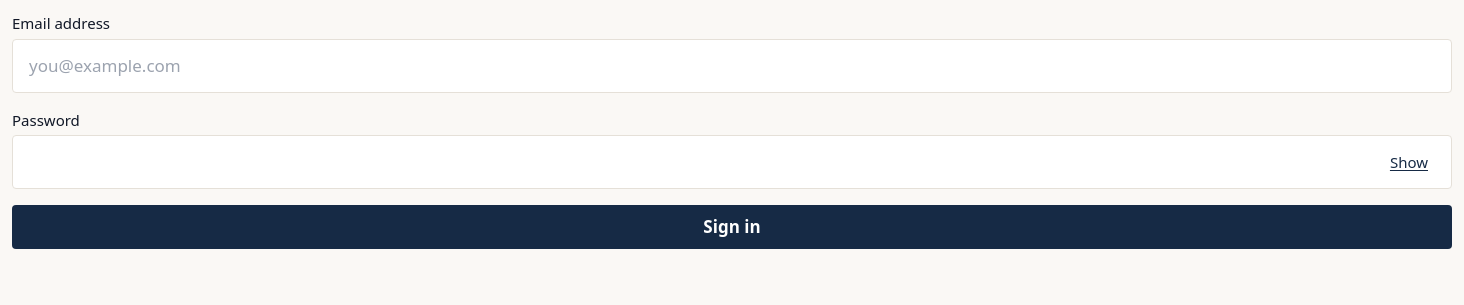
auth forms — provider failures (TM-04) › renders the generic sign-in failure and never the raw provider error
The width and height of the screenshot is (1464, 305).
Type "traveler@waynora.test" into the field labelled "Email address".
click(732, 66); type("traveler@waynora.test")  # box [12,38,1452,92]
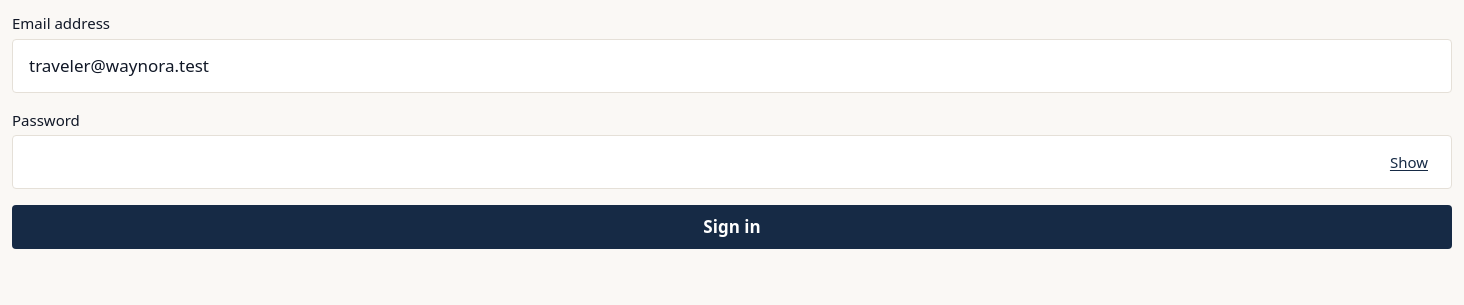
Type "password123" into the password field labelled "Password".
click(732, 162); type("password123")  # box [12,135,1452,189]
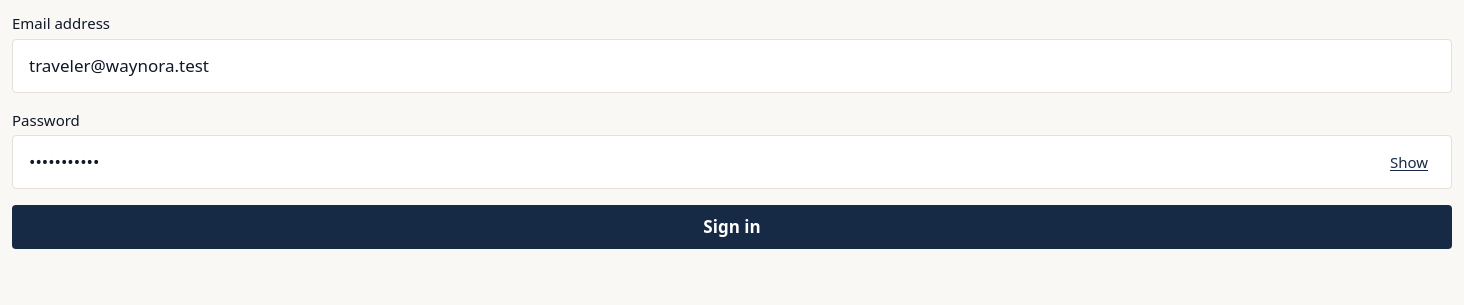
Click the button "Sign in".
click(732, 227)  # box [12,205,1452,249]
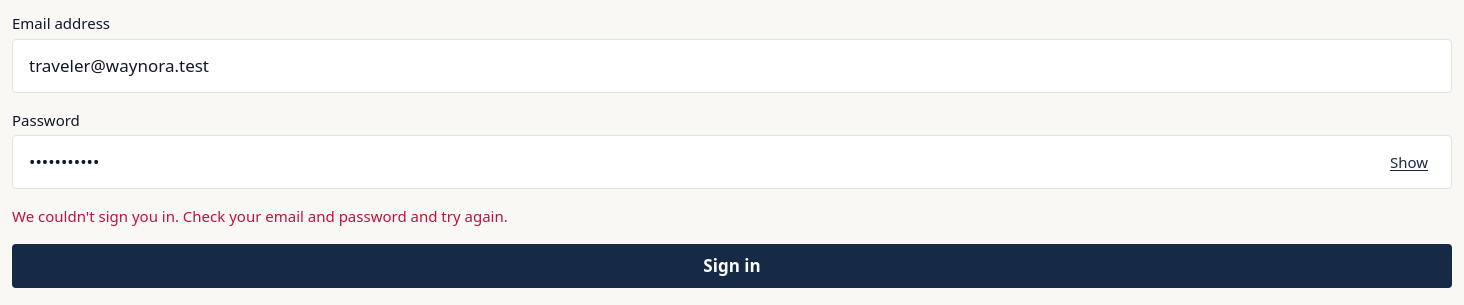
Result: the text "We couldn't sign you in. Check your email and password and try again." is shown at [12,206,508,226]
